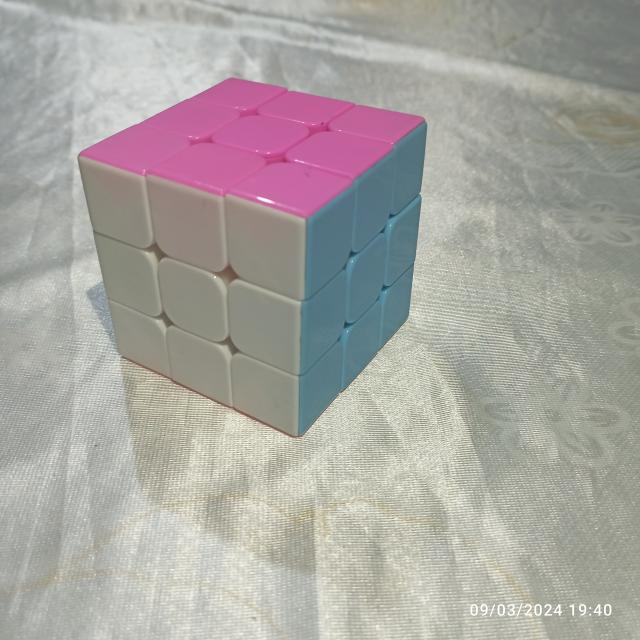Rub: (67, 71, 428, 440)
